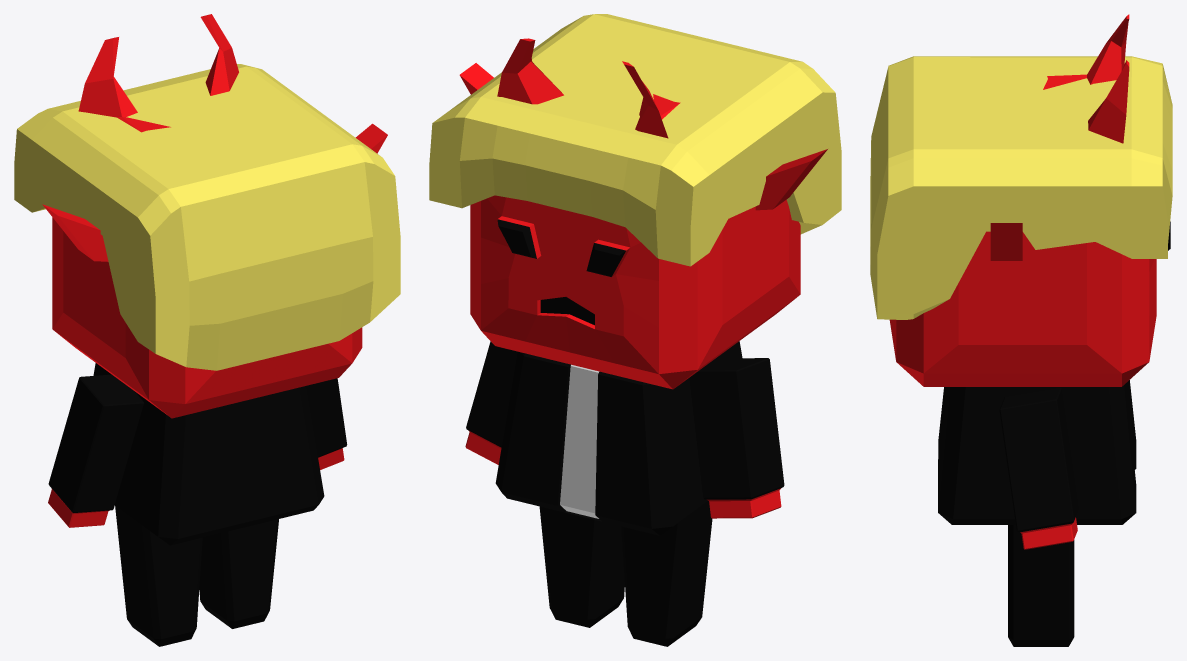
File: DevilModel_1.fbx
The picture shows the model from 3 angles, left to right: view 1: azimuth 30°, elevation 25°; view 2: azimuth 150°, elevation 25°; view 3: azimuth 270°, elevation 25°; orthographic projection. The views are drawn at different scales.
Parts seen in each view (by area): view 1: Hair, Torso, Head, Legs, Arms; view 2: Hair, Head, Torso, Legs, Arms; view 3: Hair, Head, Torso, Arms, Legs.
Part boxes in pixels (x1,y1,x2,y2): Hair: [14, 64, 400, 370]; Torso: [93, 363, 324, 545]; Head: [42, 14, 387, 418]; Legs: [115, 505, 278, 646]; Arms: [48, 374, 347, 527]; Hair: [429, 14, 841, 266]; Head: [459, 38, 827, 389]; Torso: [495, 341, 742, 535]; Legs: [539, 501, 712, 646]; Arms: [465, 341, 784, 518]; Hair: [870, 56, 1172, 319]; Head: [889, 14, 1170, 386]; Torso: [938, 380, 1136, 524]; Arms: [999, 387, 1078, 549]; Legs: [1008, 525, 1074, 646].
Size of the model in its own units: 188 by 309 by 145.
